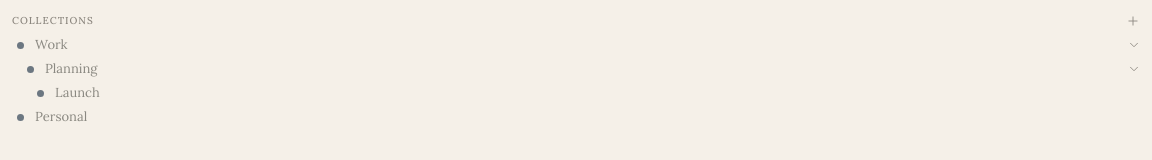
Test case: CollectionTreeNav › shows chevrons only for parents and hides descendants recursively
Expected: the button "Personal" is shown, [35,105,1144,129]
What coordinates should you click on to do the following:
click the button named "Collapse Work"
I would click on:
 (1134, 45)
Its box is [1124,35,1144,55].
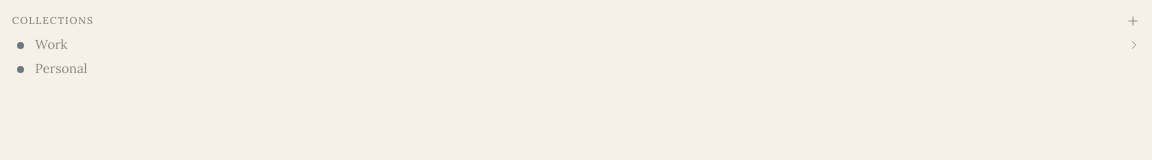
Expected: the button "Planning" is gone
Expected: the button "Launch" is gone
Expected: the button named "Expand Work" is collapsed, [1124,35,1144,55]
